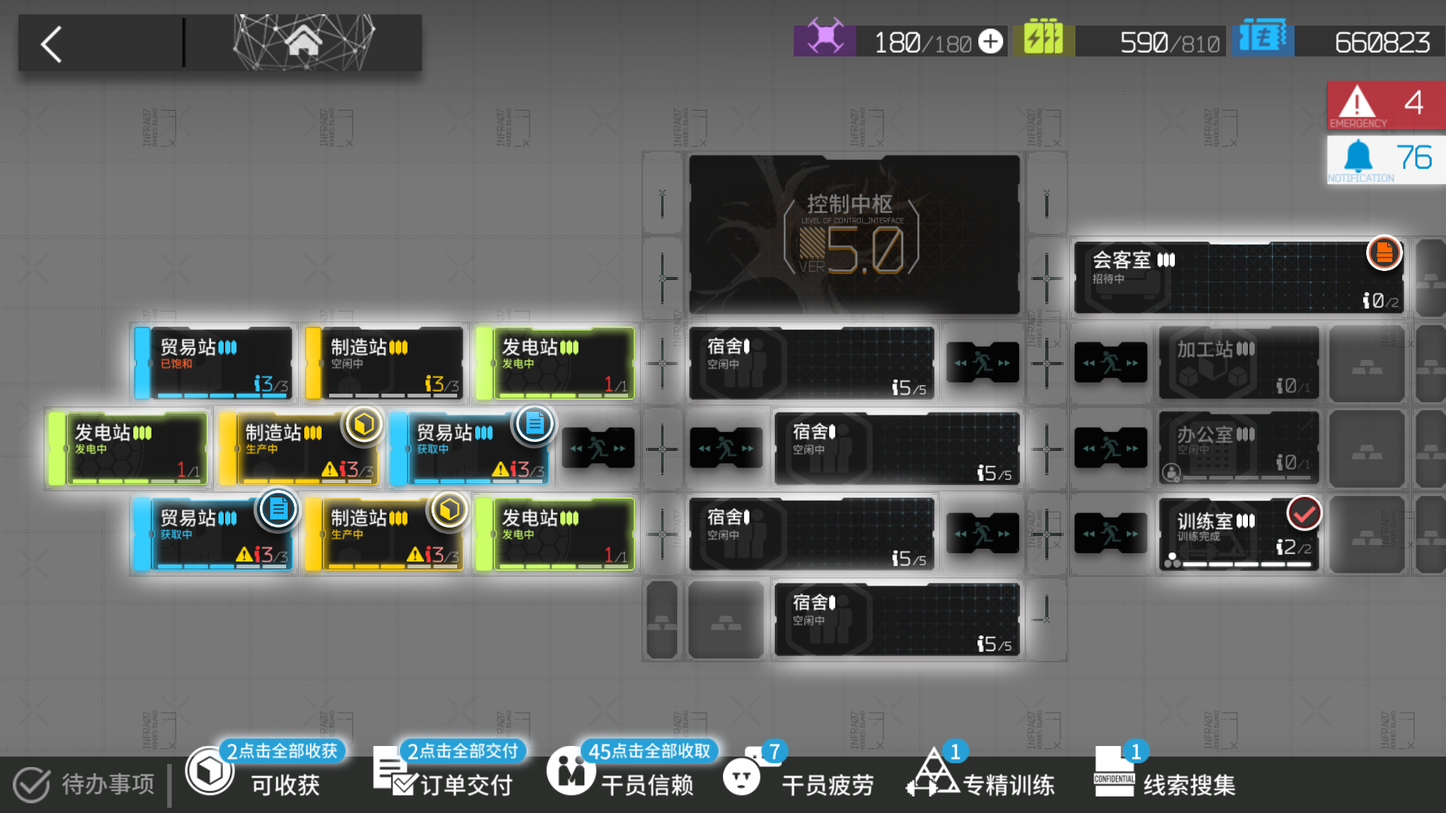All_Collection_Button: (188, 741, 369, 799)
All_Trading_Post_Collection_Button: (386, 730, 518, 797)
All_Trust_Collection_Button: (553, 737, 715, 797)
Notification_Button: (1327, 129, 1406, 184)
Return_Button: (27, 6, 120, 73)
